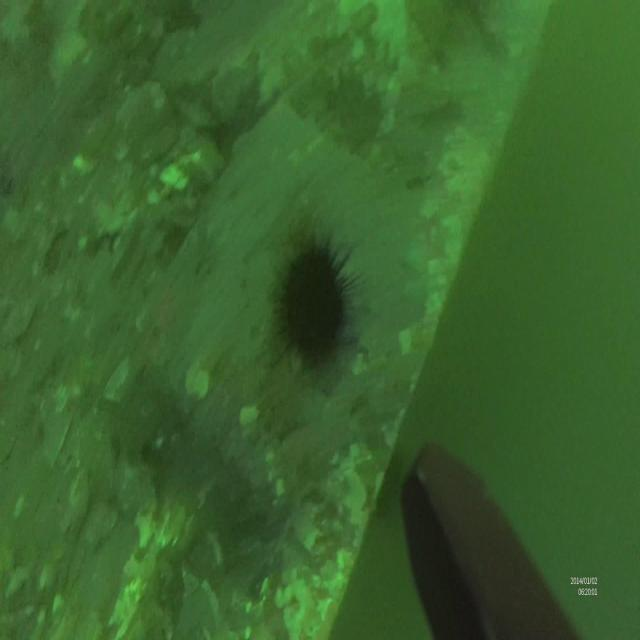echinus: (266, 220, 362, 385)
